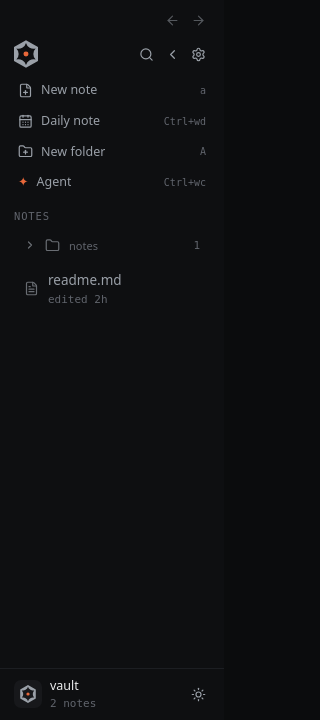
it: Sidebar › names a new entry without inventing an edit time for it
The width and height of the screenshot is (320, 720).
What coordinates should you click on to do the following:
click the button "New note a"
I would click on:
 (112, 90)
Its box is [10,76,214,105].
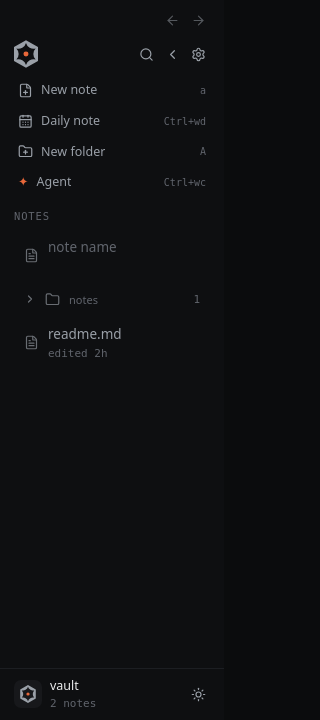
Now the list item named "New note name" is shown, box [24,237,200,263]
